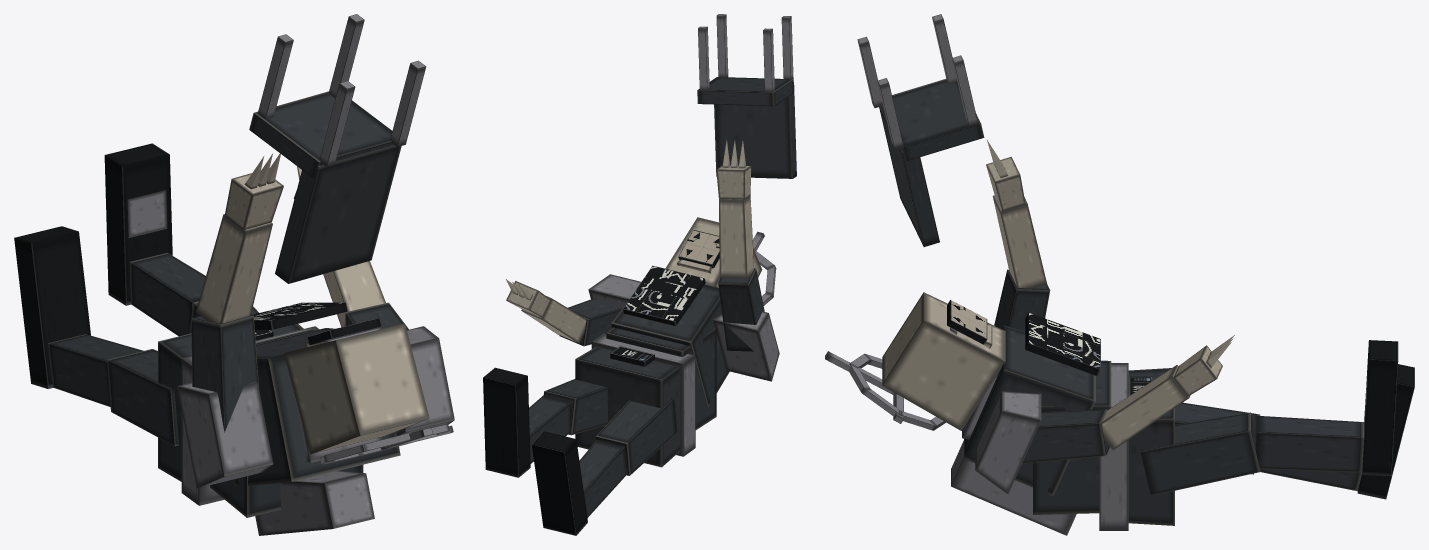
The model's file is posthum_attack.obj.
3 views of the same model, side by side, from view 1: azimuth 30°, elevation 25°; view 2: azimuth 150°, elevation 25°; view 3: azimuth 270°, elevation 25° (orthographic). The views are drawn at different scales.
Parts seen in each view (by area): view 1: posthum_attack; view 2: posthum_attack; view 3: posthum_attack.
Boxes of the visible parts, <box> form: posthum_attack: <box>14,14,454,535</box>; posthum_attack: <box>483,14,796,535</box>; posthum_attack: <box>825,14,1414,535</box>.
Size of the model in its own units: 0.4402 by 0.9117 by 1.02.
Materials: 1 (1 with a texture image).
